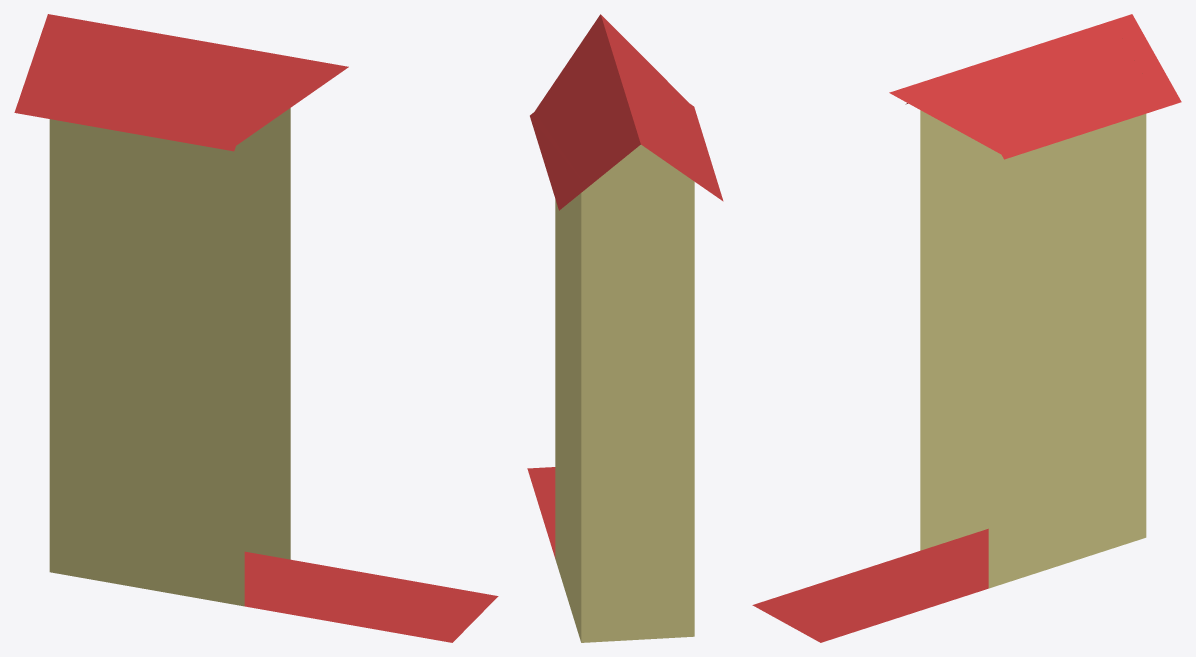
3 views of the same model, side by side, from view 1: azimuth 30°, elevation 25°; view 2: azimuth 150°, elevation 25°; view 3: azimuth 270°, elevation 25° (orthographic). The views are drawn at different scales.
Size of the model in its own units: 7.4 by 8.49 by 10.87.
